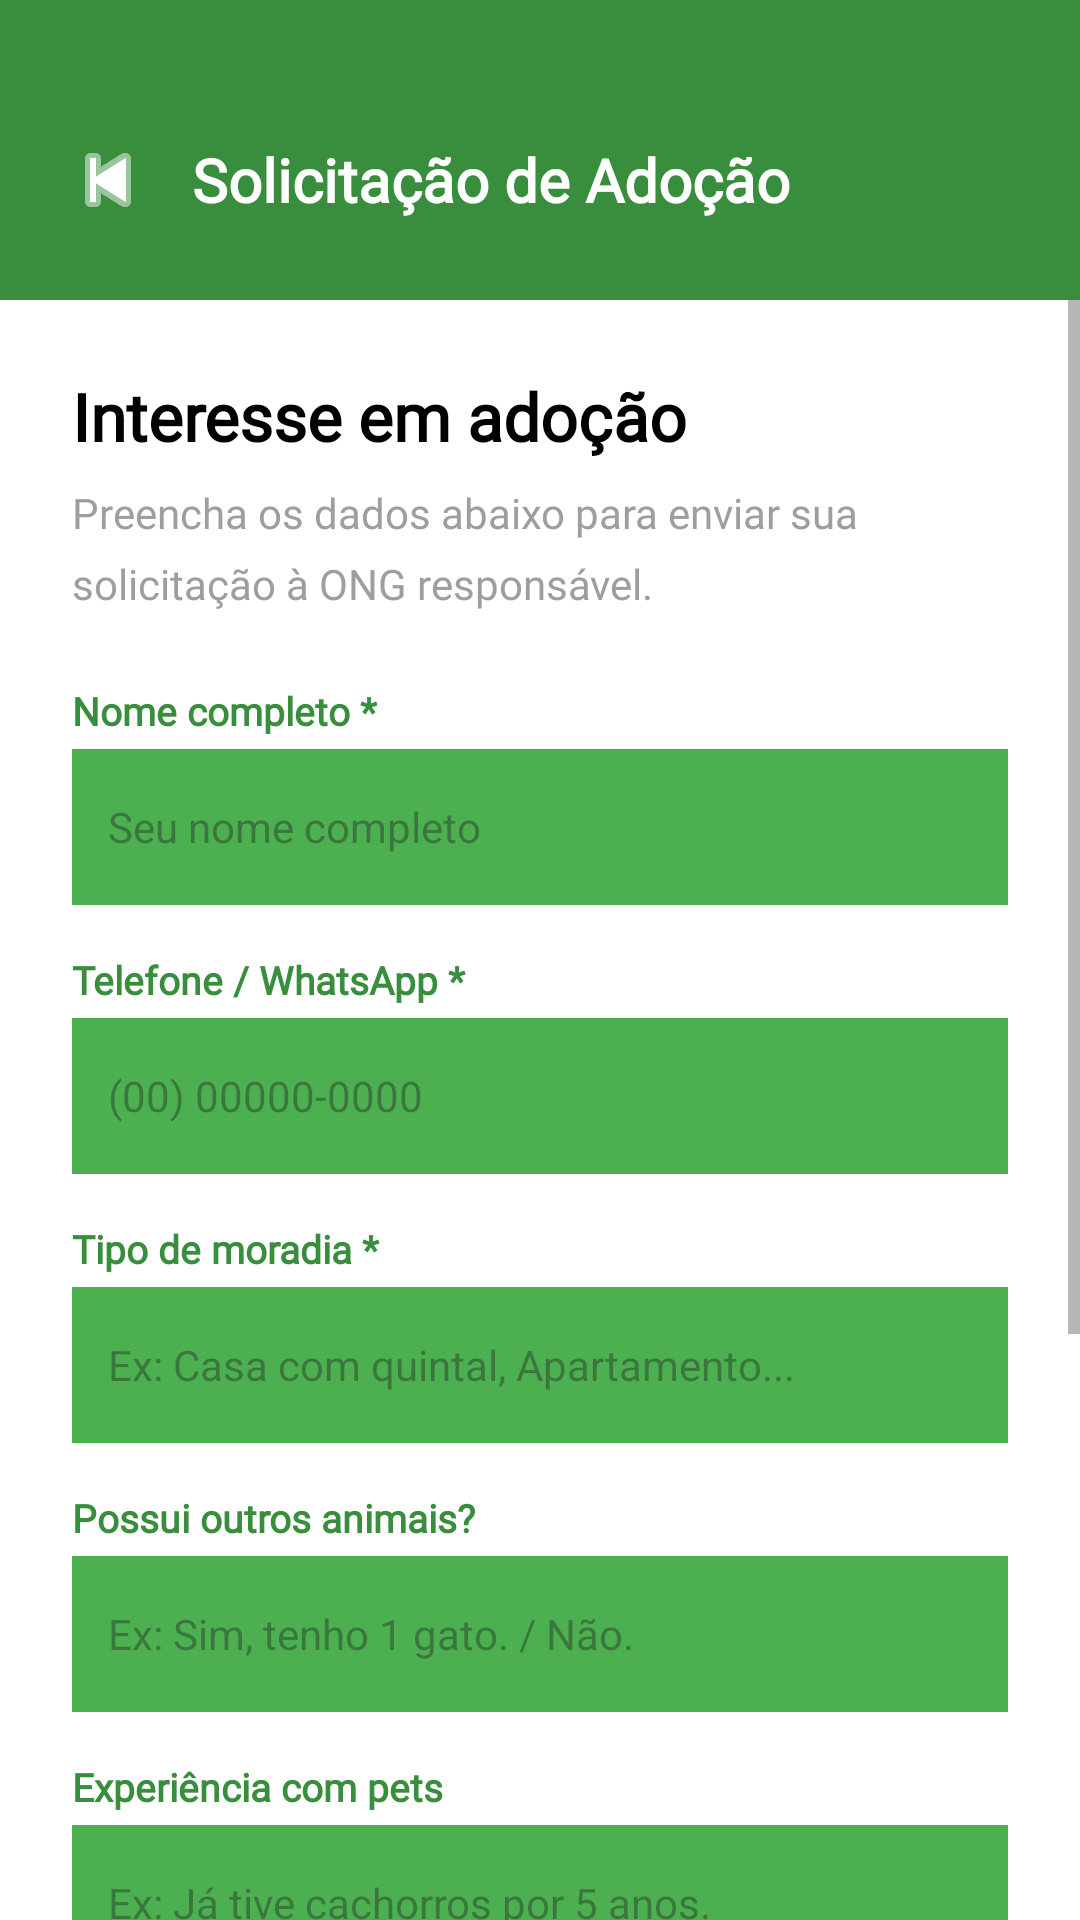

Icons on this 1080w x 1920h Android screen, each with the point to tap as [x,y]:
Voltar: [108,180]
